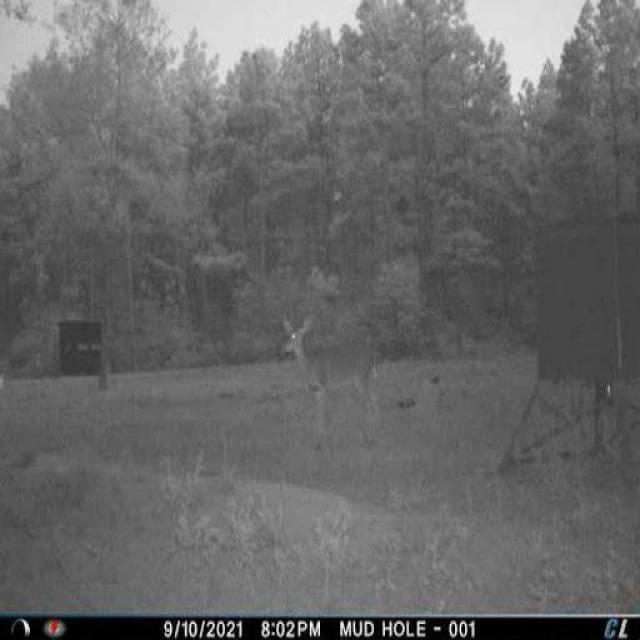deer: (278, 301, 386, 446)
